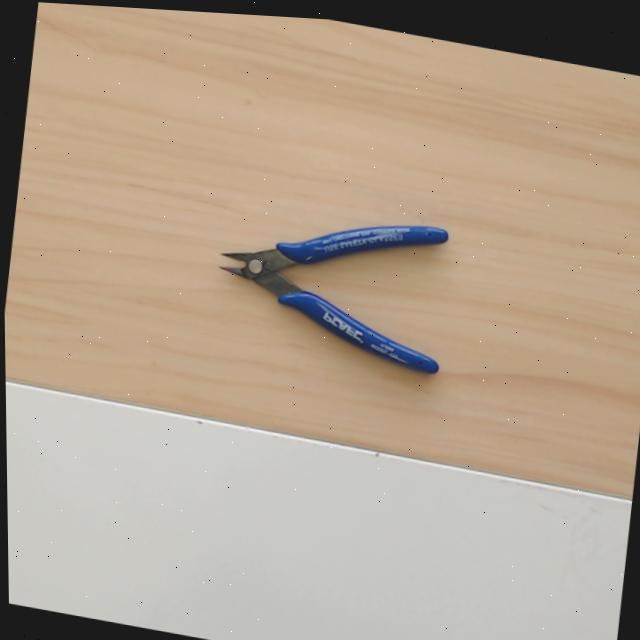Tang-Potong-Biru: (210, 211, 448, 374)
